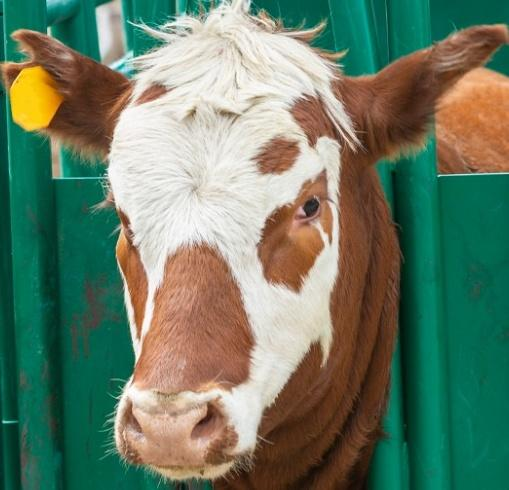muzzles: (97, 369, 276, 487)
